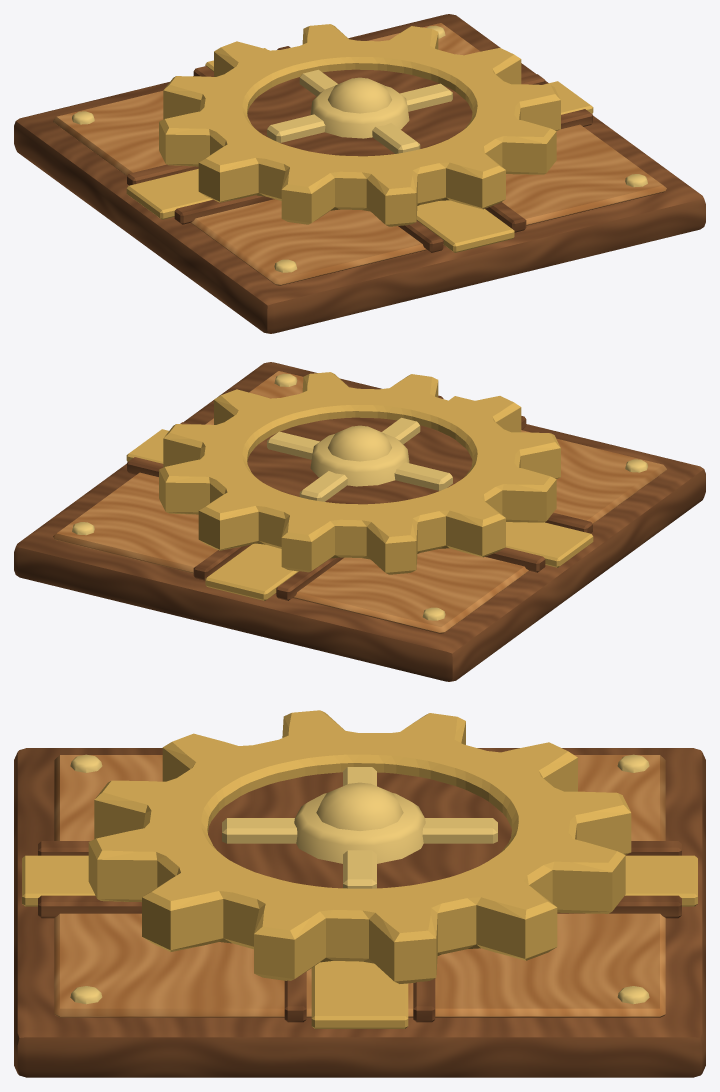
Rendered from engrenage_croix.glb.
The picture shows the model from 3 angles, top to bottom: view 1: azimuth 30°, elevation 25°; view 2: azimuth 150°, elevation 25°; view 3: azimuth 270°, elevation 25°; orthographic projection. The views are drawn at different scales.
Parts seen in each view (by area): view 1: engrenage_croix_Socle, Rotor; view 2: engrenage_croix_Socle, Rotor; view 3: engrenage_croix_Socle, Rotor.
Part boxes in pixels (left/top/right/bottom): engrenage_croix_Socle: left=14, top=14, right=705, bottom=333; Rotor: left=159, top=24, right=560, bottom=226; engrenage_croix_Socle: left=14, top=362, right=705, bottom=681; Rotor: left=159, top=372, right=560, bottom=574; engrenage_croix_Socle: left=14, top=733, right=705, bottom=1077; Rotor: left=88, top=710, right=631, bottom=983.
Bounding box in the file's own units: 1.72 × 0.406 × 1.72.
5 materials, 2 textured.
